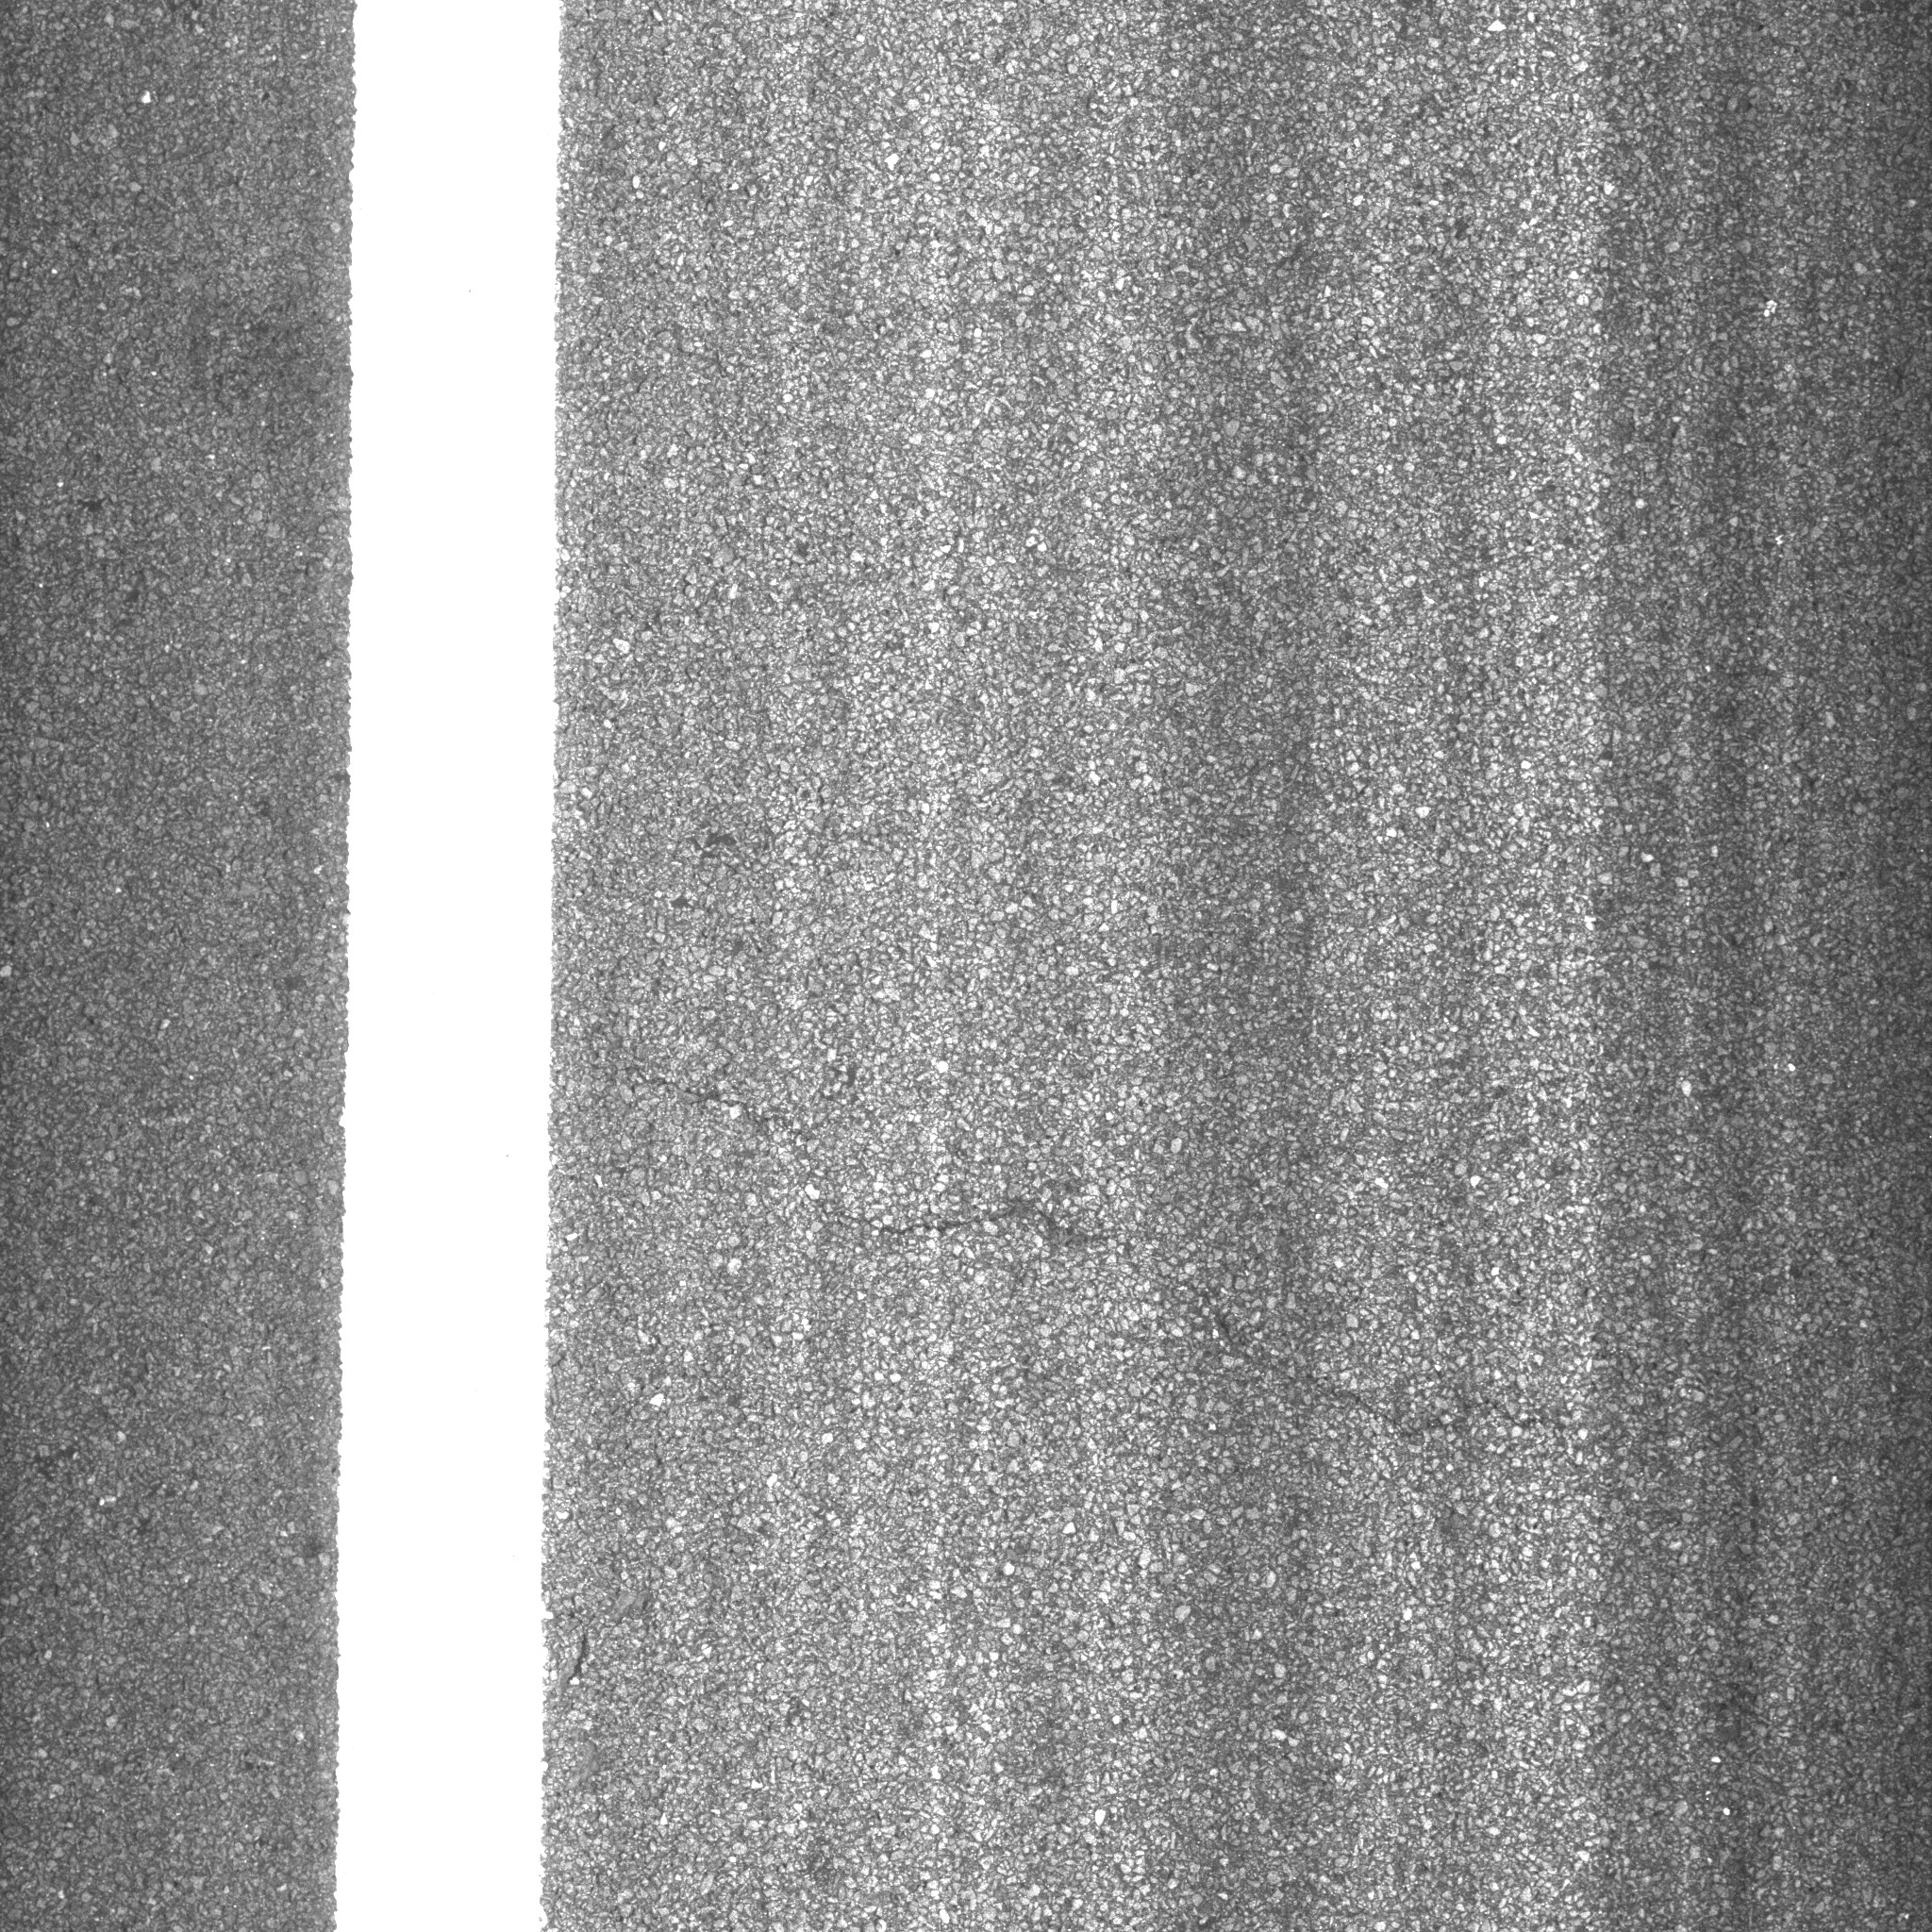transverse: (602, 1030, 1637, 1502)
